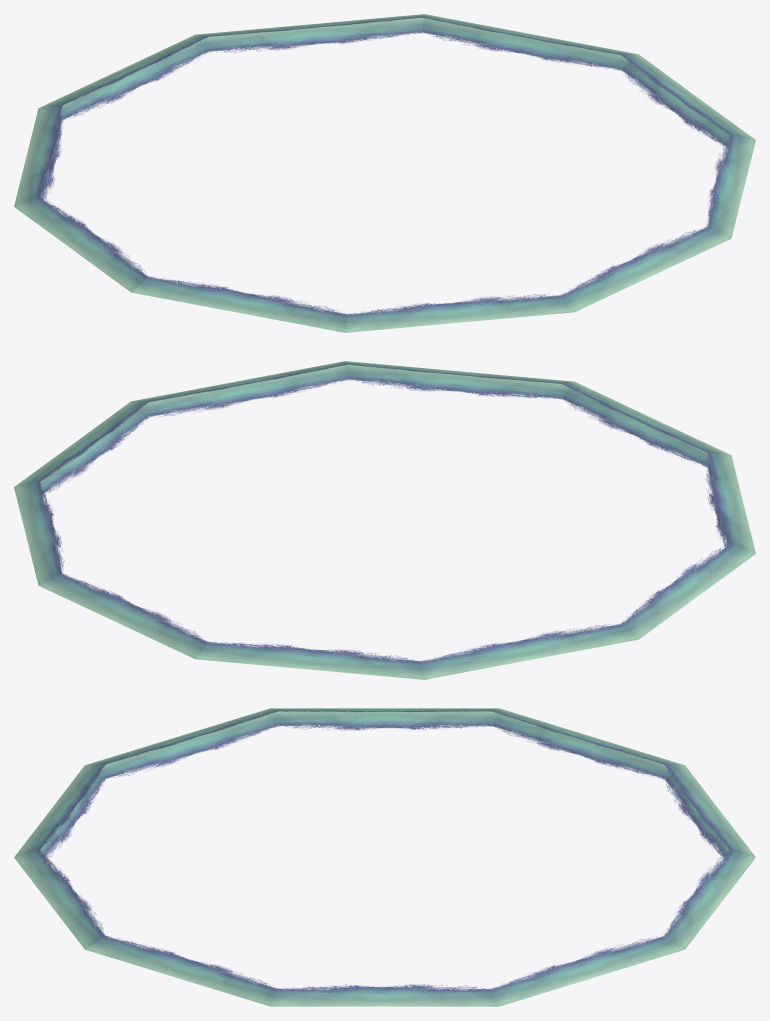
The model's file is AuroraRing.glb.
3 views of the same model, one above another, from view 1: azimuth 30°, elevation 25°; view 2: azimuth 150°, elevation 25°; view 3: azimuth 270°, elevation 25° (orthographic). The views are drawn at different scales.
Parts seen in each view (by area): view 1: Circle; view 2: Circle; view 3: Circle.
Part boxes in pixels (bbox=[...]): Circle: bbox=[14, 14, 755, 332]; Circle: bbox=[14, 361, 755, 679]; Circle: bbox=[14, 708, 755, 1006].
Bounding box in the file's own units: 1.9 × 0.0584 × 2.
Materials: 1 (1 with a texture image).
